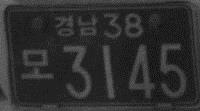1: (101, 43, 118, 101)
3: (61, 43, 92, 98), (103, 12, 122, 38)
4: (127, 43, 155, 100)
5: (158, 43, 187, 99)
8: (123, 13, 143, 37)
경남_O: (53, 13, 98, 39)
모: (20, 48, 53, 81)
